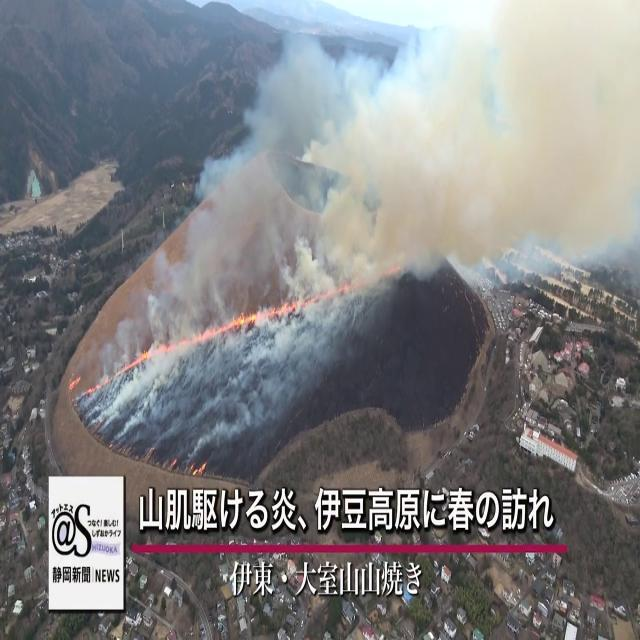Smoke: (130, 0, 640, 318)
